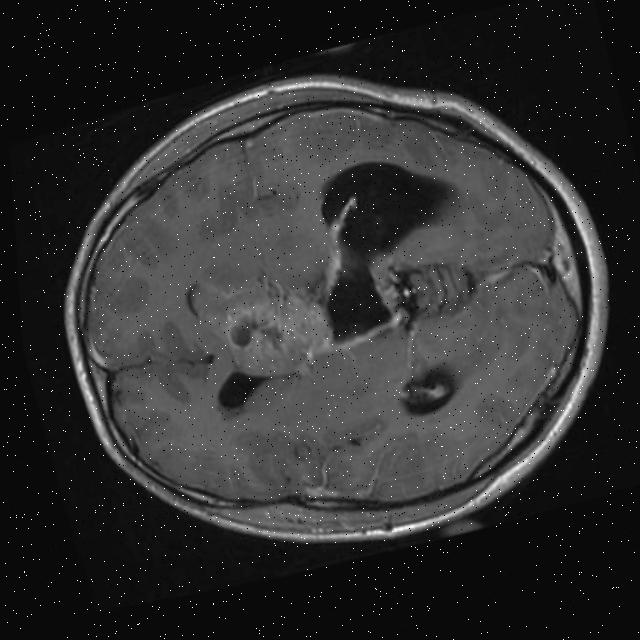Glioma: (209, 263, 343, 391)
